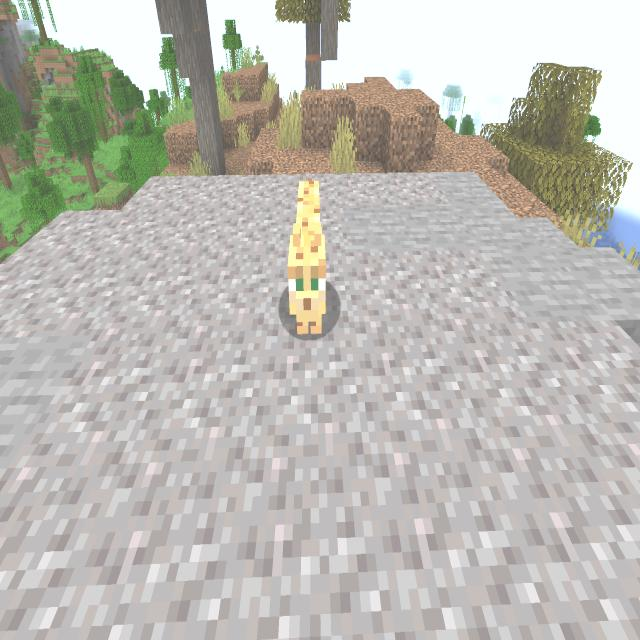Ocelot: (280, 167, 334, 345)
